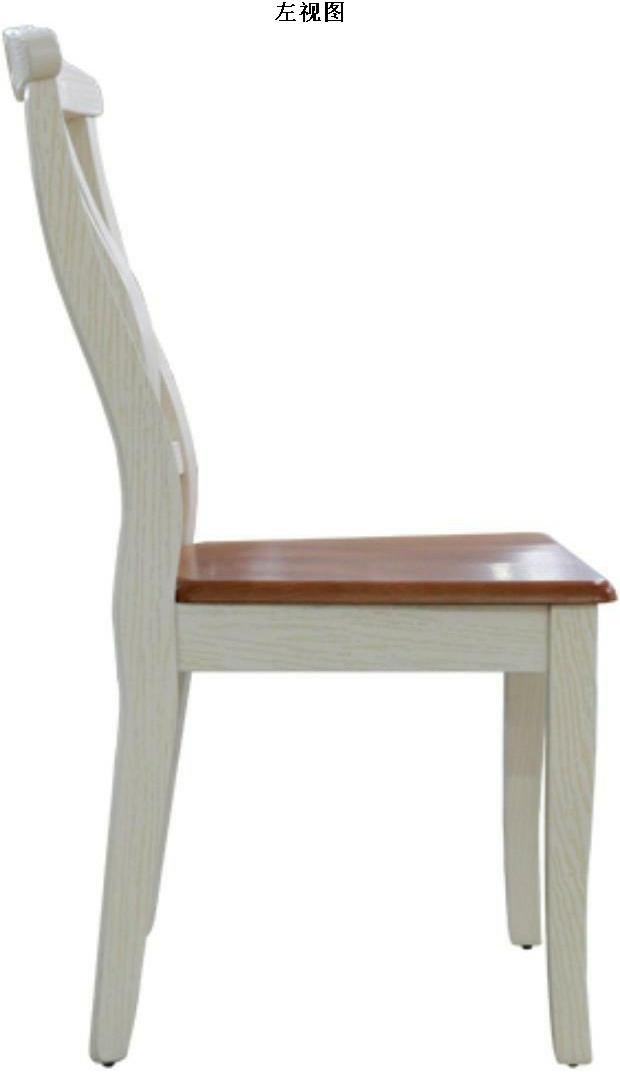obstacle: (4, 0, 615, 580), (113, 605, 616, 1071), (3, 82, 118, 1071)
